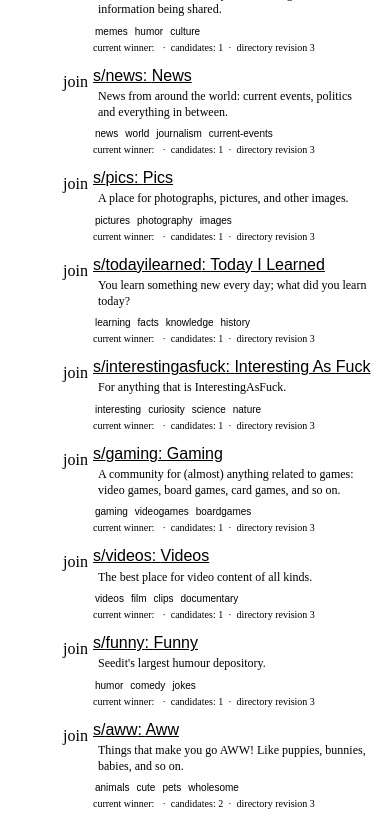
it: directory vote views › filters directories when a tag is selected
(page scrolled)
Click the button "animals" at {"x": 112, "y": 788}, box x1=93 y1=781 x2=132 y2=794
(page scrolled)
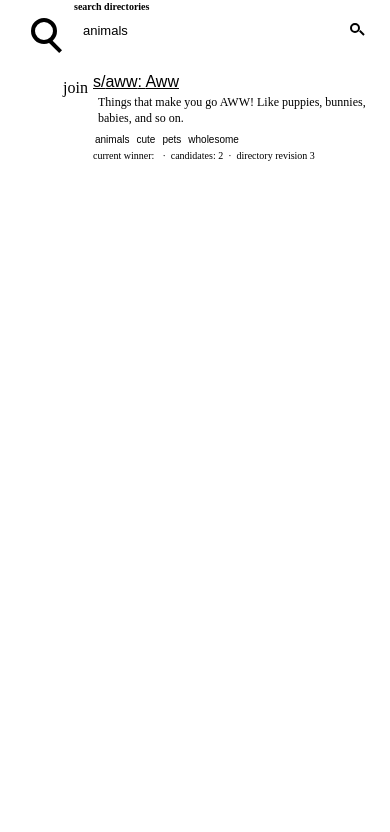
Expected: the list item shows "s/aww: Aww", x1=63 y1=73 x2=366 y2=161
Expected: the number of list items is 1, x1=63 y1=73 x2=366 y2=161
Expected: the search field named "search directories" holds "animals", x1=74 y1=15 x2=372 y2=45
